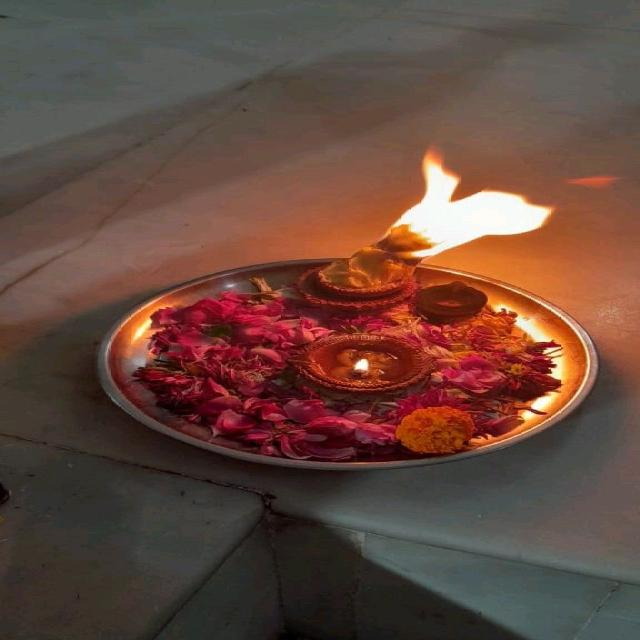fire: (374, 148, 552, 260)
